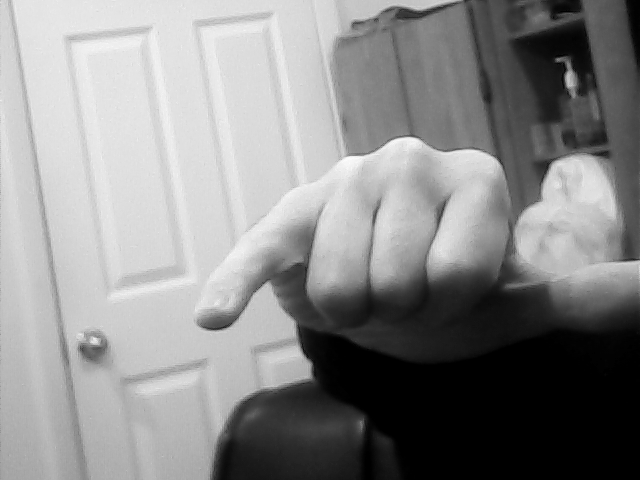aloha: (187, 129, 640, 370)
